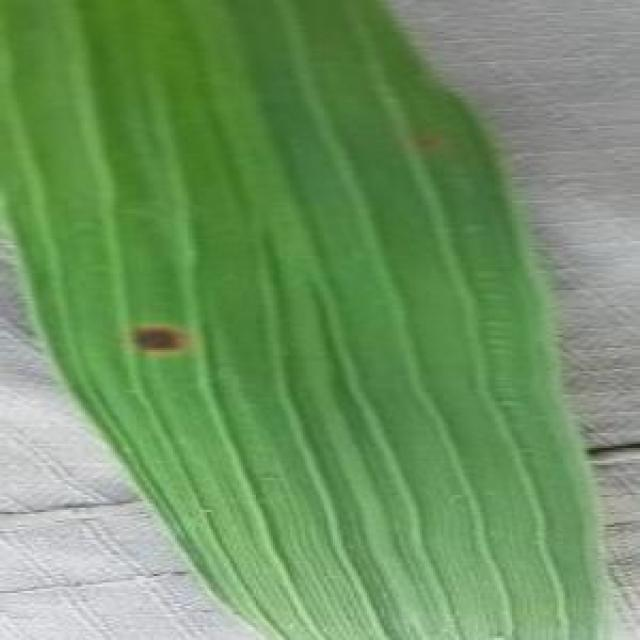brownspots: (121, 318, 190, 352)
